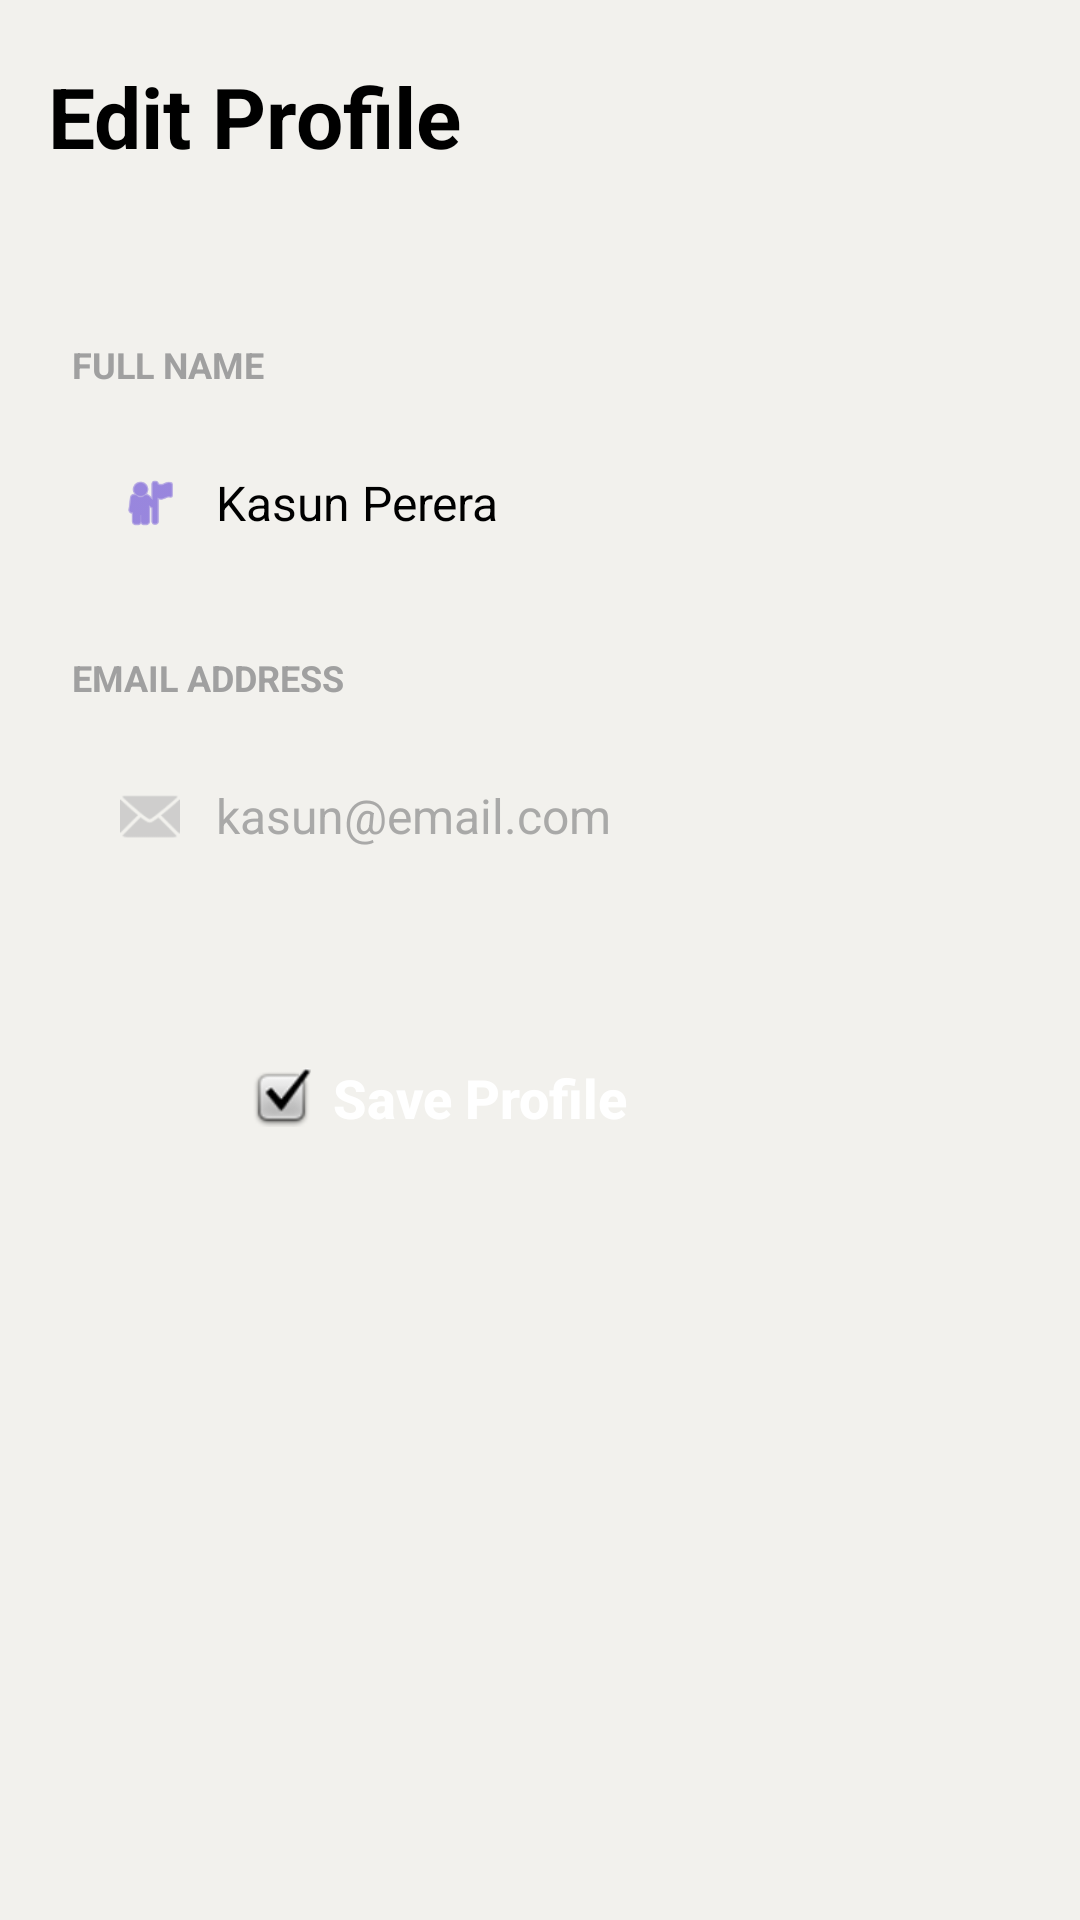

Icons on this 1080 x 1920 Android screen, each with its box as (x1,y1,x2,y2):
myplaces: (128,481,173,525)
